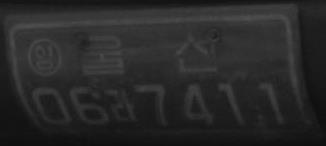0: (32, 85, 71, 126)
1: (254, 80, 289, 126), (215, 82, 247, 125)
4: (183, 82, 214, 125)
6: (72, 85, 109, 125)
7: (137, 83, 168, 128)
라: (110, 86, 137, 123)
영: (27, 38, 64, 78)
울산_D: (77, 29, 218, 75)
